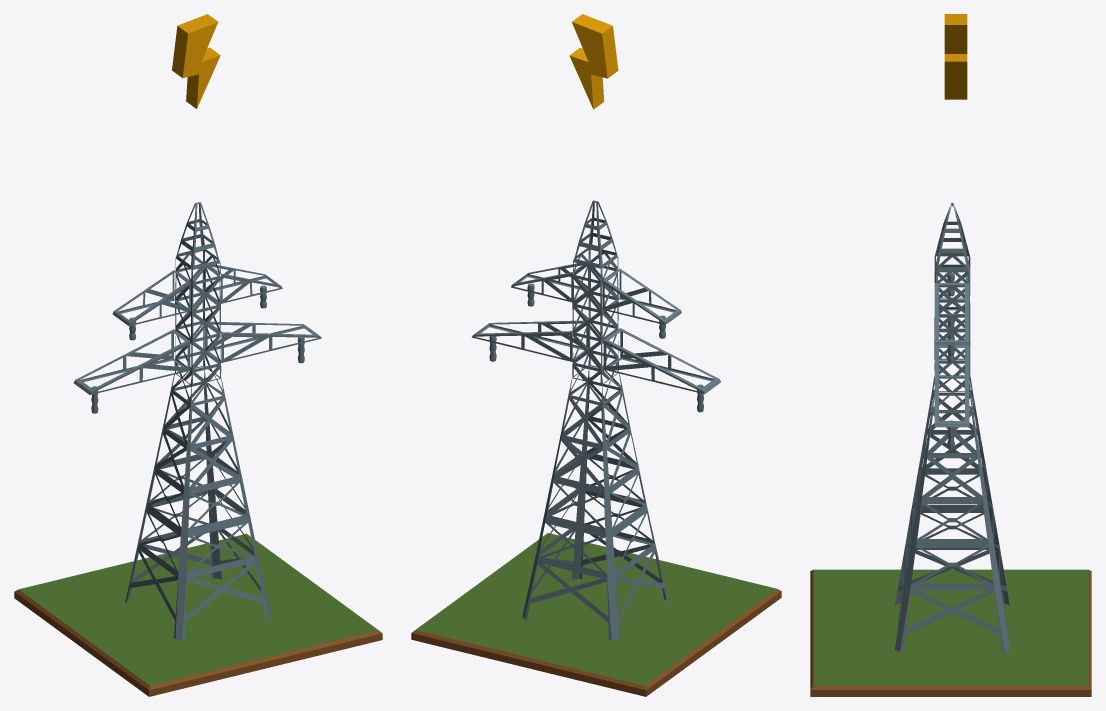
File: TransmissionTower_002.fbx
The picture shows the model from 3 angles, left to right: view 1: azimuth 30°, elevation 25°; view 2: azimuth 150°, elevation 25°; view 3: azimuth 270°, elevation 25°; orthographic projection. The views are drawn at different scales.
Parts seen in each view (by area): view 1: PowerLine_Tile, TransmissionTower_2, Box.002, Box; view 2: PowerLine_Tile, TransmissionTower_2, Box.002, Box; view 3: PowerLine_Tile, TransmissionTower_2, Box.002, Box.
Boxes of the visible parts, x1,y1,x2,y2 form: PowerLine_Tile: [14, 533, 382, 696]; TransmissionTower_2: [125, 202, 270, 639]; Box.002: [73, 264, 321, 413]; Box: [172, 14, 220, 108]; PowerLine_Tile: [411, 533, 781, 696]; TransmissionTower_2: [522, 200, 668, 640]; Box.002: [471, 263, 720, 412]; Box: [569, 14, 618, 109]; PowerLine_Tile: [810, 569, 1091, 696]; TransmissionTower_2: [895, 202, 1009, 651]; Box.002: [934, 264, 969, 448]; Box: [944, 14, 967, 99].
Size of the model in its own units: 200 by 487 by 200.
